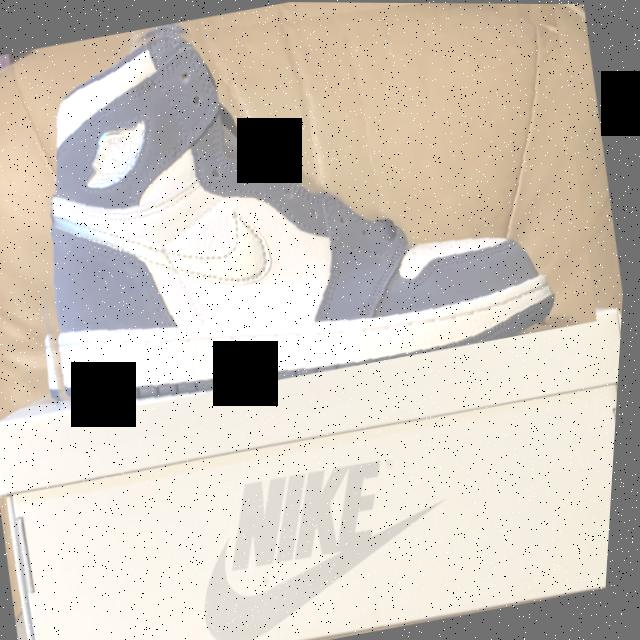shoe: (0, 0, 616, 426)
